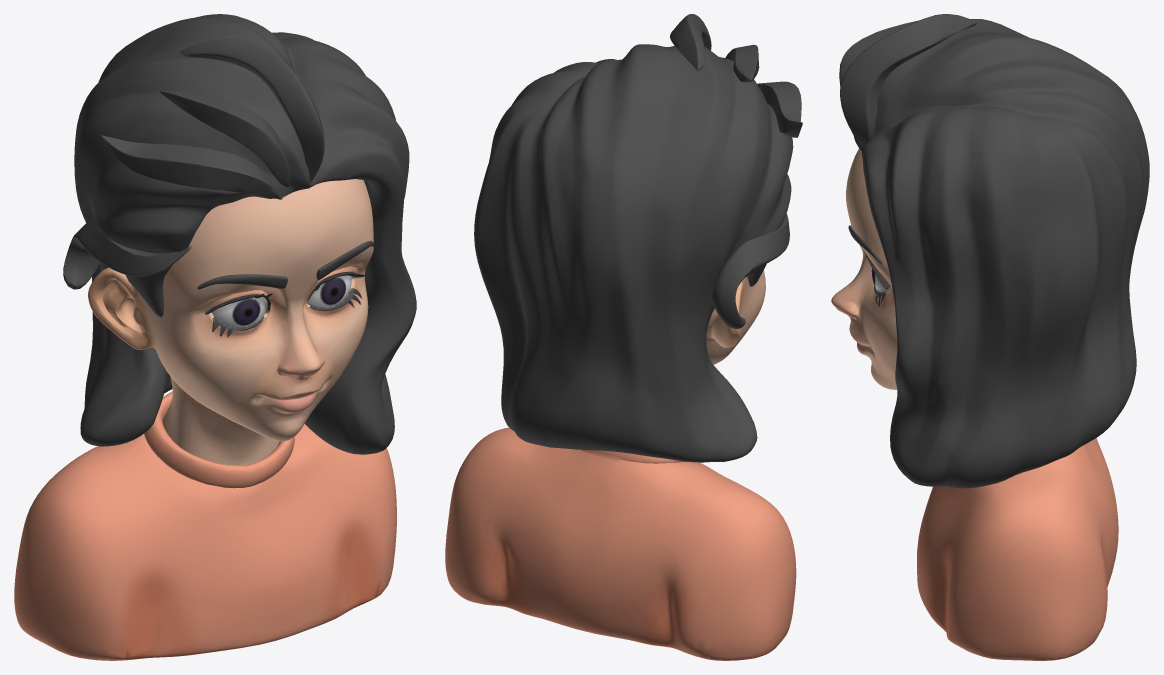
The model's file is Girl1.glb.
3 renders of one model, left to right at view 1: azimuth 30°, elevation 25°; view 2: azimuth 150°, elevation 25°; view 3: azimuth 270°, elevation 25°, orthographic. The views are drawn at different scales.
Parts seen in each view (by area): view 1: Girl_1_Avataar.001; view 2: Girl_1_Avataar.001; view 3: Girl_1_Avataar.001.
Boxes of the visible parts, box(x1,y1,x2,y2) form: Girl_1_Avataar.001: box(14, 14, 416, 660); Girl_1_Avataar.001: box(445, 14, 802, 660); Girl_1_Avataar.001: box(831, 14, 1149, 660).
Bounding box in the file's own units: 0.337 × 0.5495 × 0.2825.
1 material, 1 textured.
